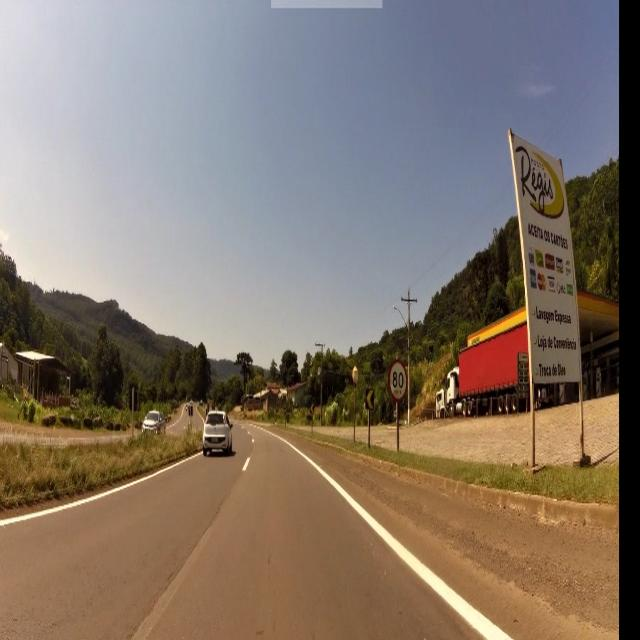Del: (366, 385, 374, 408)
R-19: (388, 358, 404, 399)
